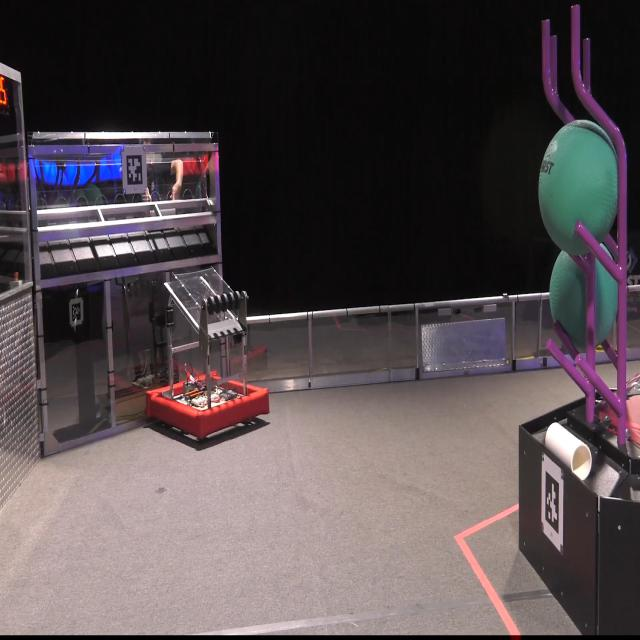Coral: (544, 420, 592, 481)
